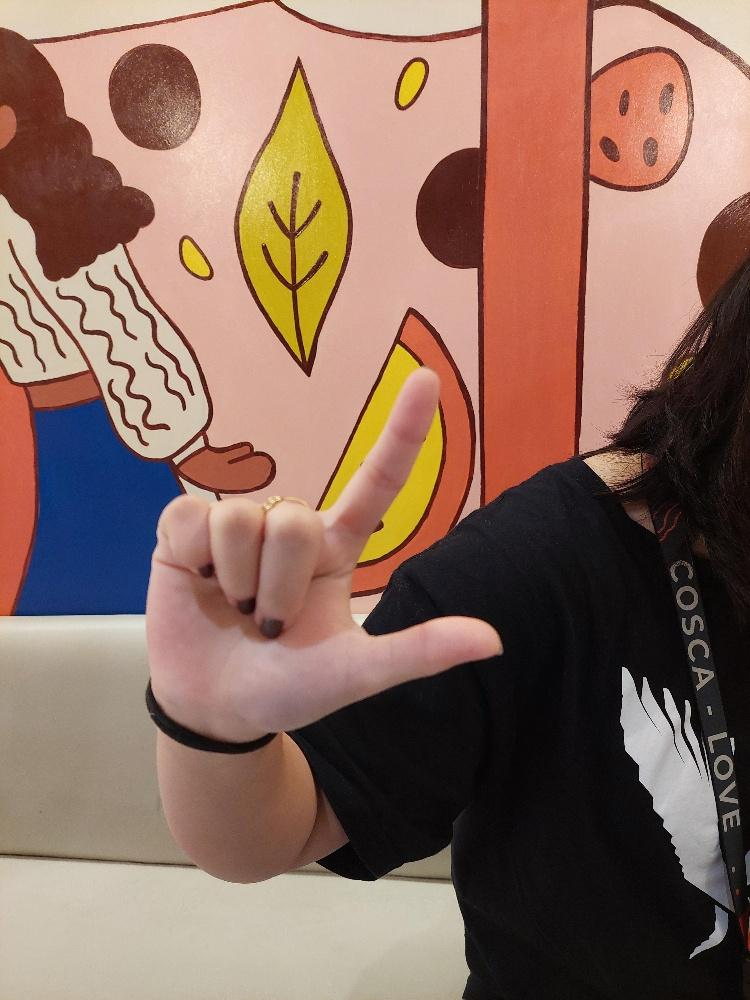l: (141, 360, 505, 733)
